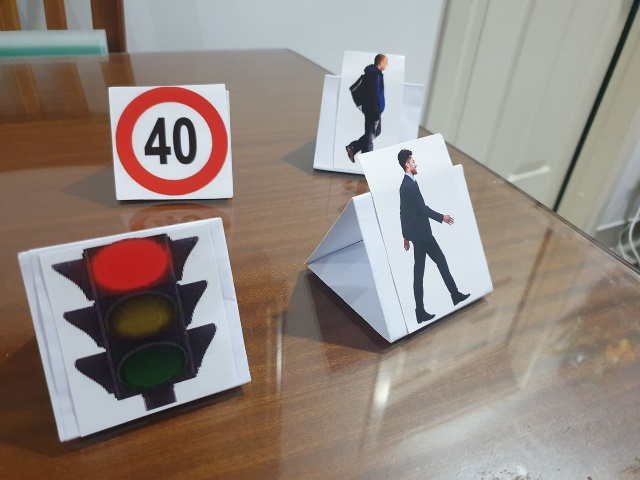Limit 40: (113, 87, 229, 196)
Person: (378, 143, 473, 313), (338, 53, 396, 166)
Red: (59, 238, 221, 398)
